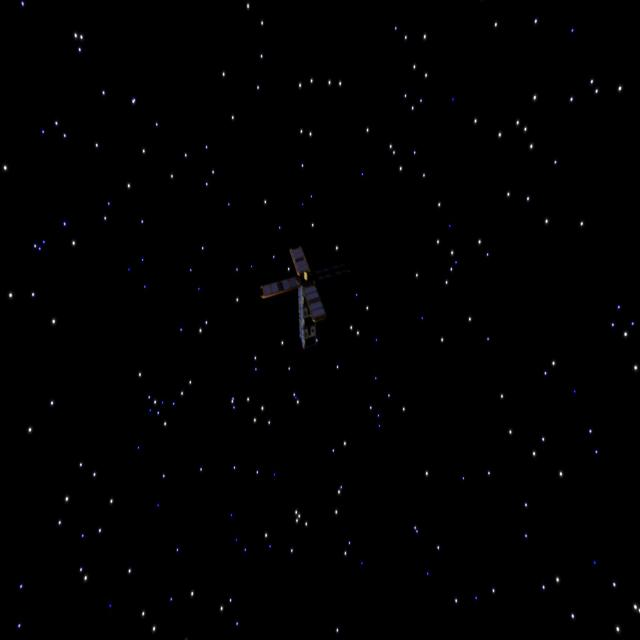medium_debris: (255, 241, 328, 346)
